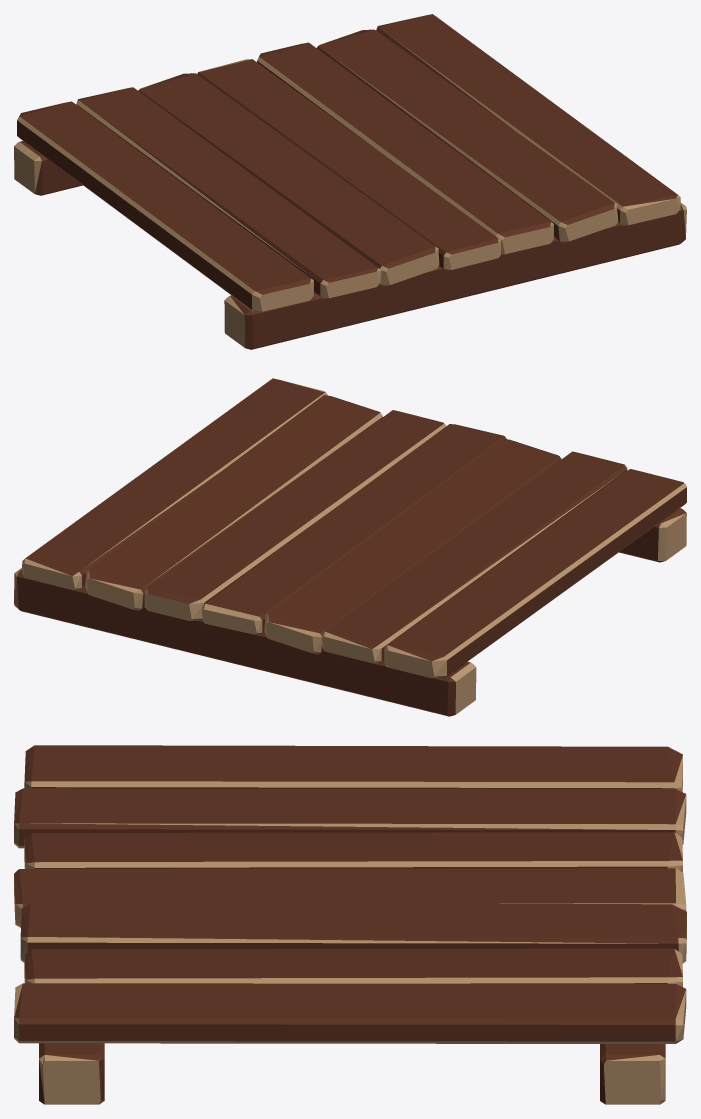
The model's file is MCastle_LgtWoodFlr_01.FBX.
3 views of the same model, one above another, from view 1: azimuth 30°, elevation 25°; view 2: azimuth 150°, elevation 25°; view 3: azimuth 270°, elevation 25° (orthographic). The views are drawn at different scales.
Visible parts, largest first — view 1: MCastle_LgtWoodFlr_01_LOD0; view 2: MCastle_LgtWoodFlr_01_LOD0; view 3: MCastle_LgtWoodFlr_01_LOD0.
Boxes of the visible parts, x1,y1,x2,y2 form: MCastle_LgtWoodFlr_01_LOD0: [14, 14, 686, 349]; MCastle_LgtWoodFlr_01_LOD0: [14, 378, 686, 716]; MCastle_LgtWoodFlr_01_LOD0: [14, 745, 686, 1104].
Size of what is drawn, in the model's own units: 4.15 by 0.5595 by 4.11.
